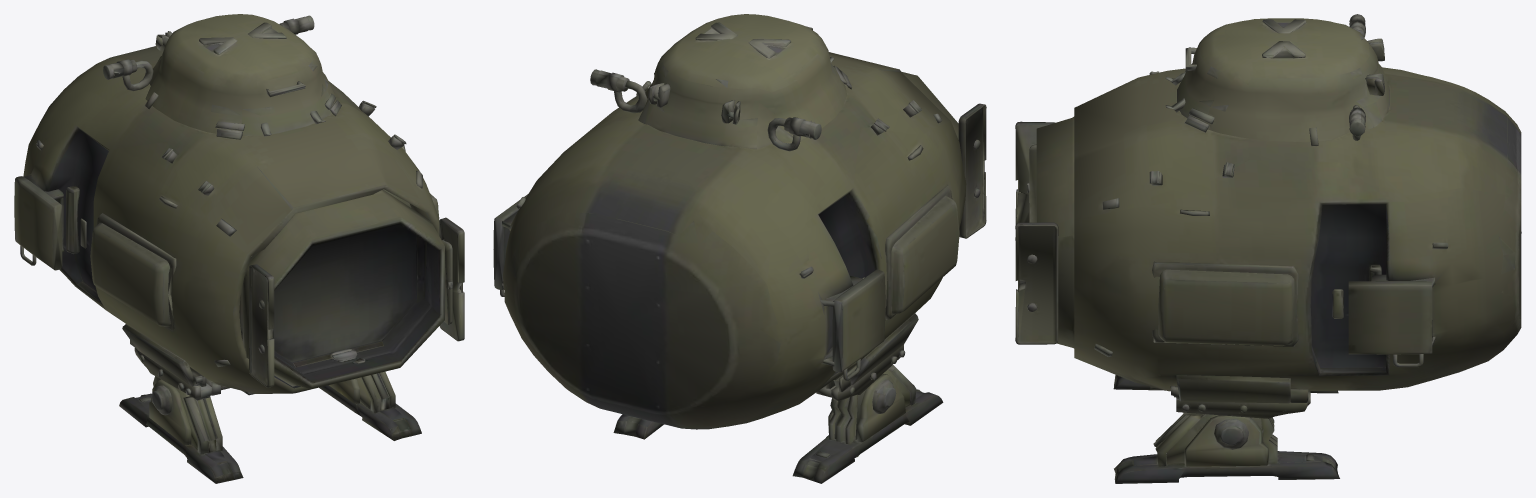
File: p_pod2.glb
3 views of the same model, side by side, from view 1: azimuth 30°, elevation 25°; view 2: azimuth 150°, elevation 25°; view 3: azimuth 270°, elevation 25° (orthographic). The views are drawn at different scales.
Bounding box in the file's own units: 0.7515 × 0.8189 × 0.9531.
Materials: 1 (1 with a texture image).
